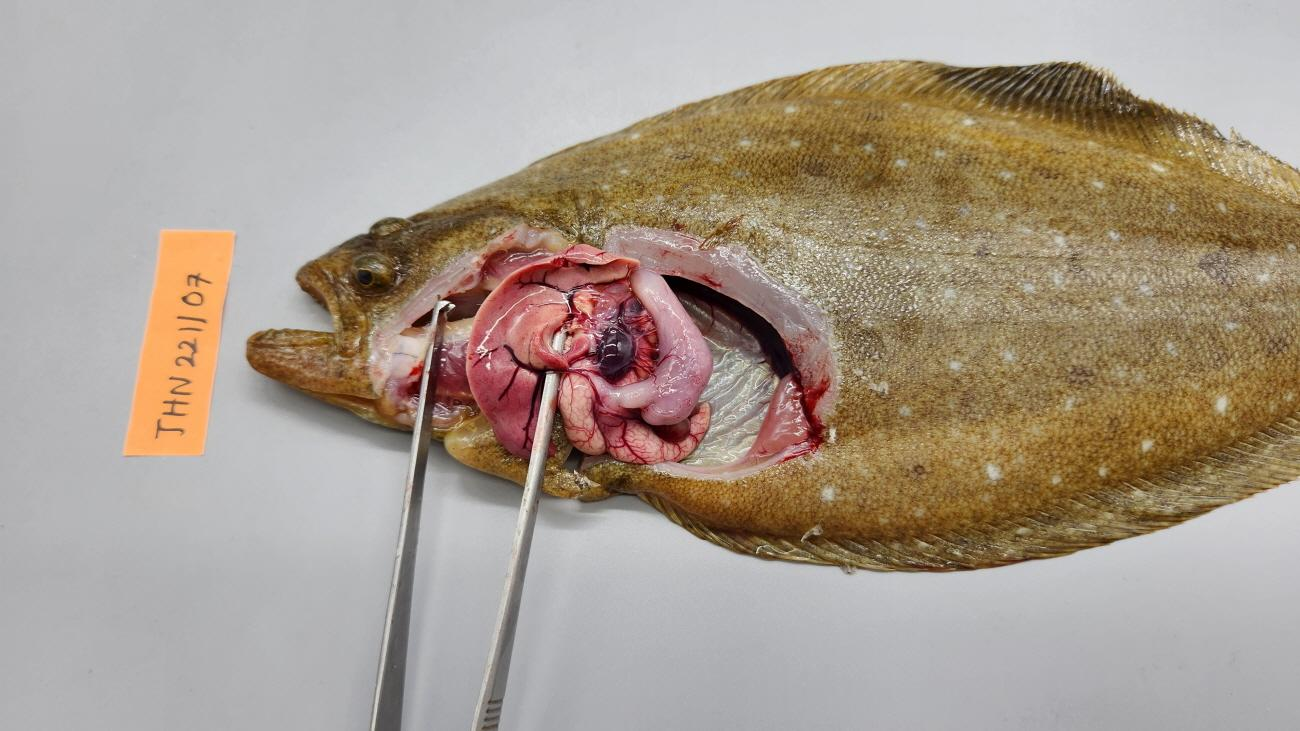POSPN: (597, 301, 635, 383)
